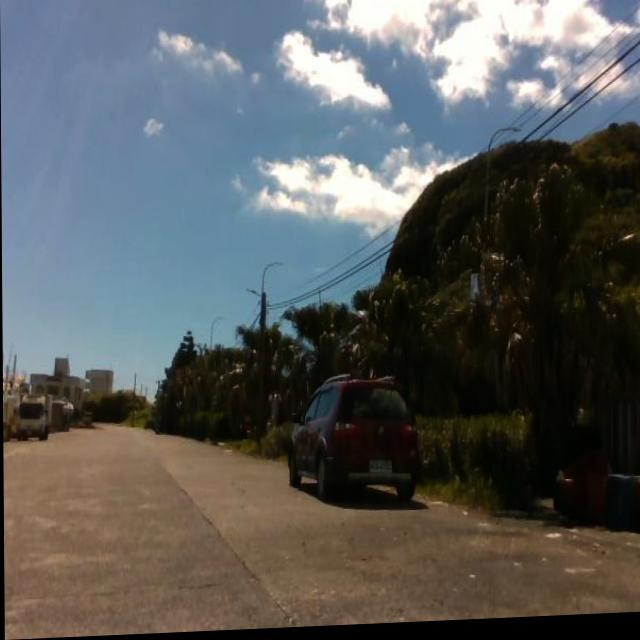pollute: (546, 450, 640, 545)
